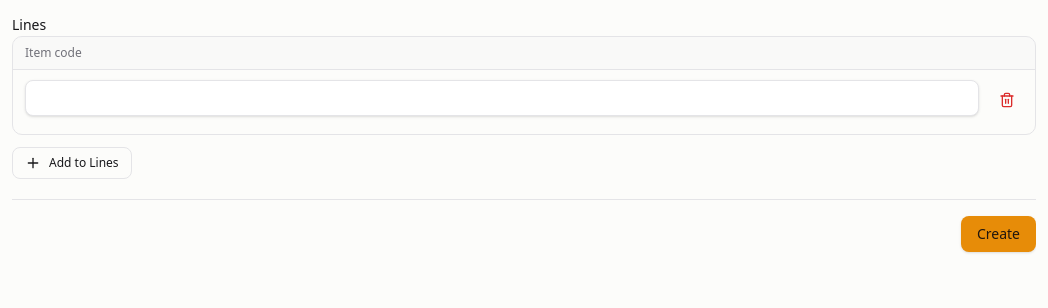
Test case: table repeaters › shows per-row issues after a failed submit
Click the button "Create": (998,234) [961,216,1036,252]
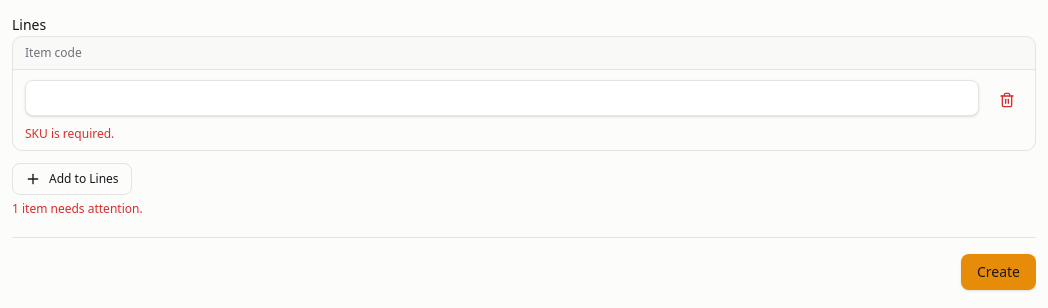
Check: the list item "SKU is required." is shown, box [25,125,114,142]
